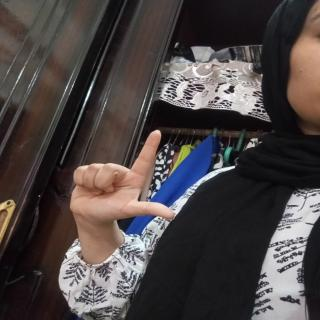LAAM: (62, 125, 180, 238)
